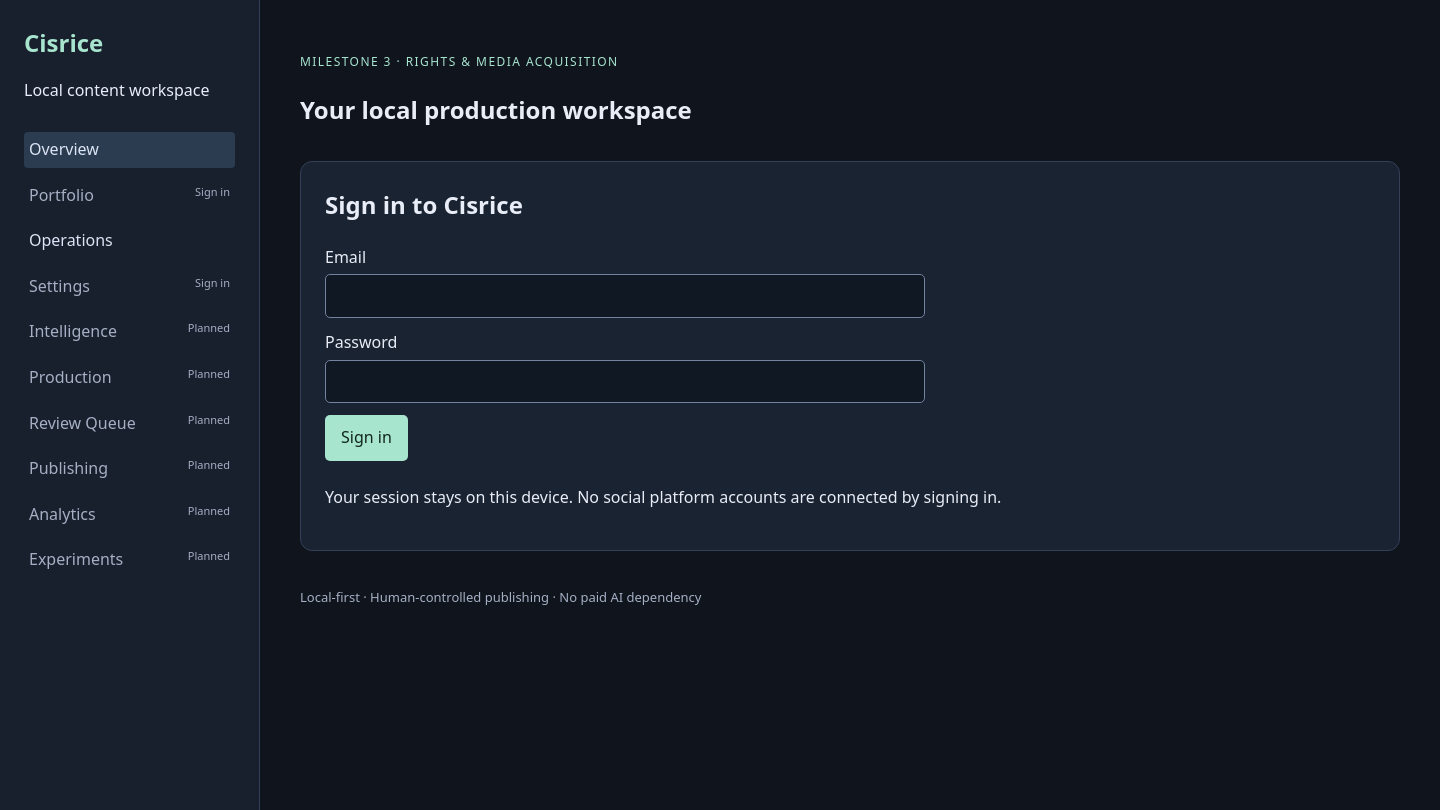
Test: login failures clear the password and show a generic server error
In the field labelled "Email": point(625, 296) [325,274,925,318], type "fixture@example.test"
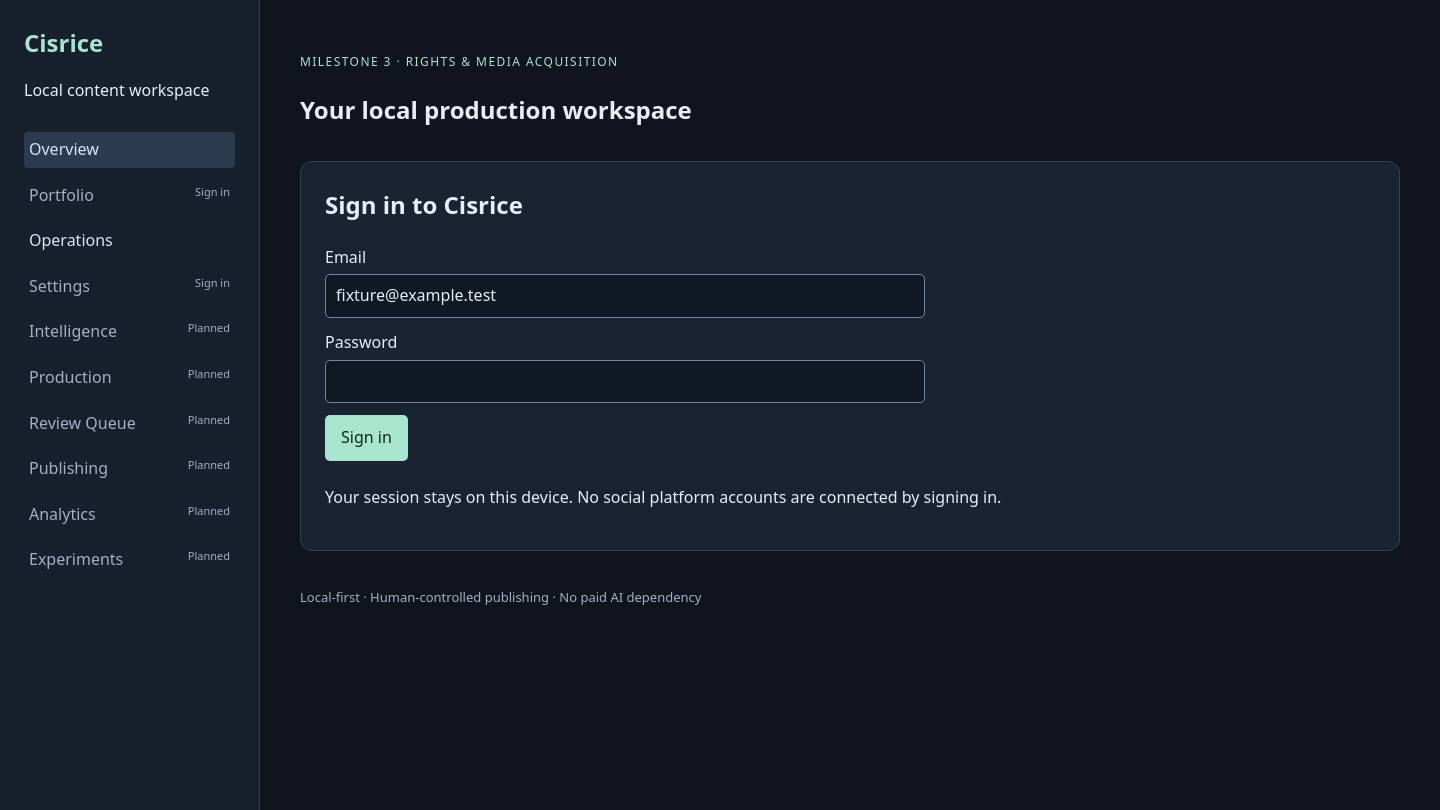
In the password field labelled "Password": point(625, 381) [325,360,925,403], type "fixture-only-password"
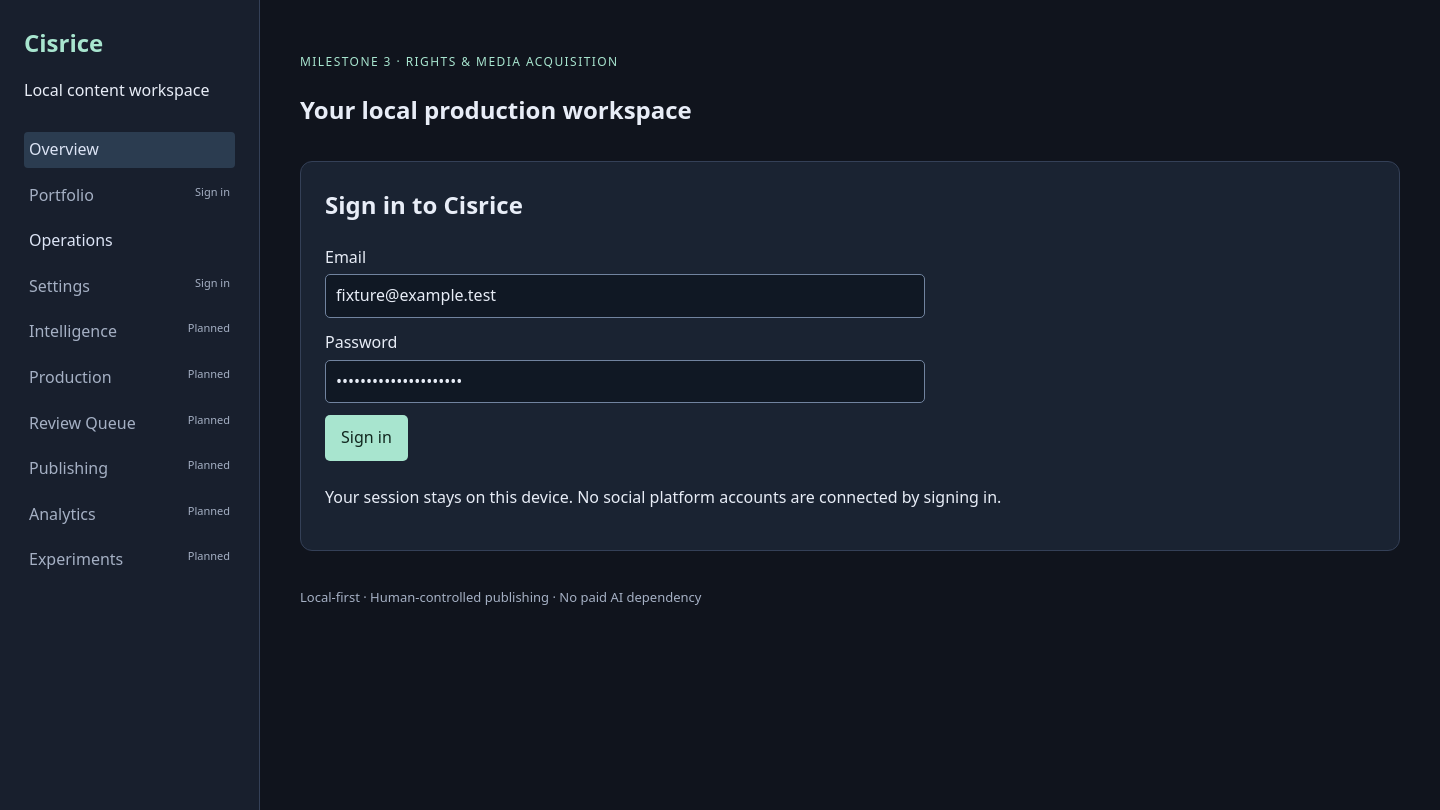
Click the button "Sign in": point(366, 438) [325,415,408,461]
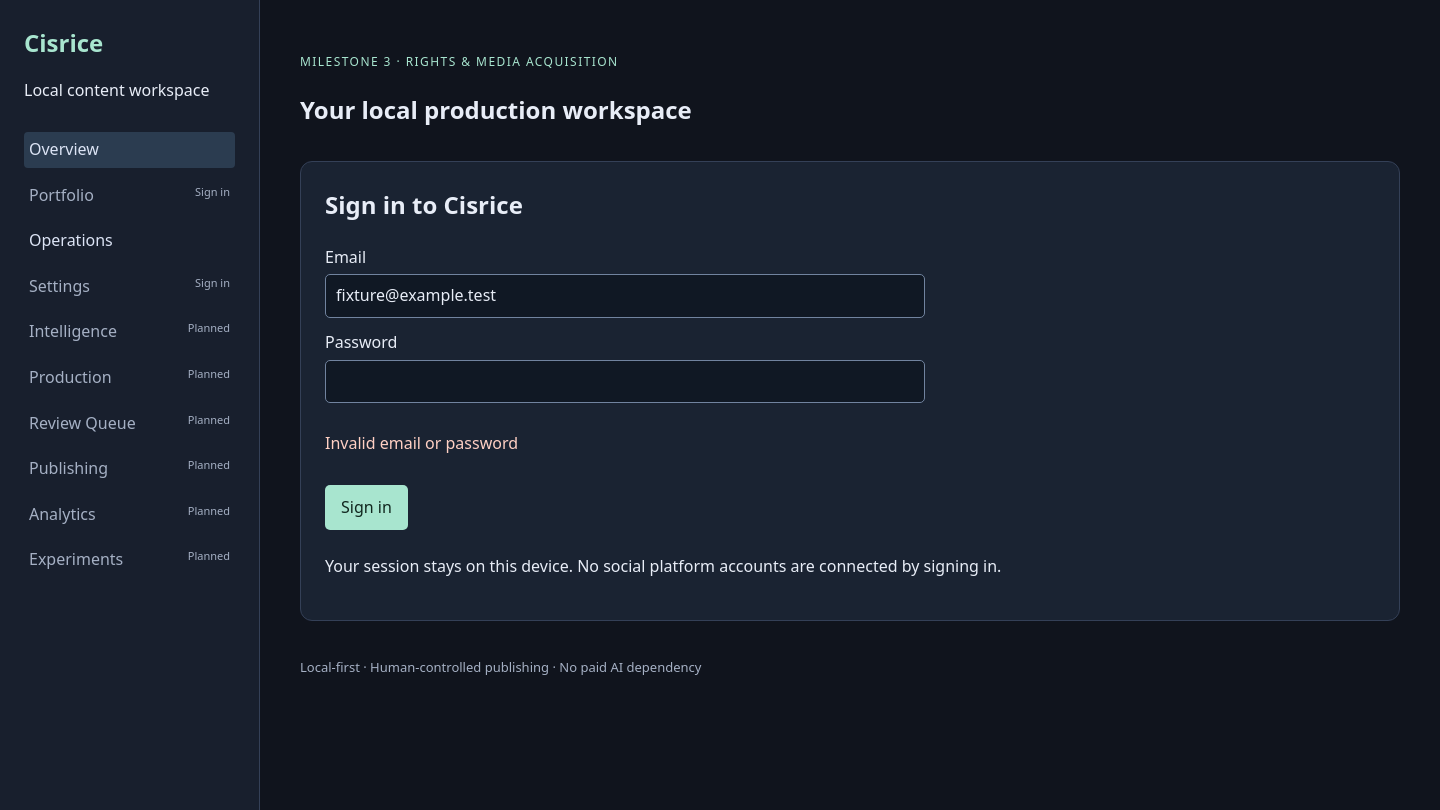
Check: the message reads "Invalid email or password", box [325,432,518,454]
Check: the password field labelled "Password" is empty, box [325,360,925,403]
